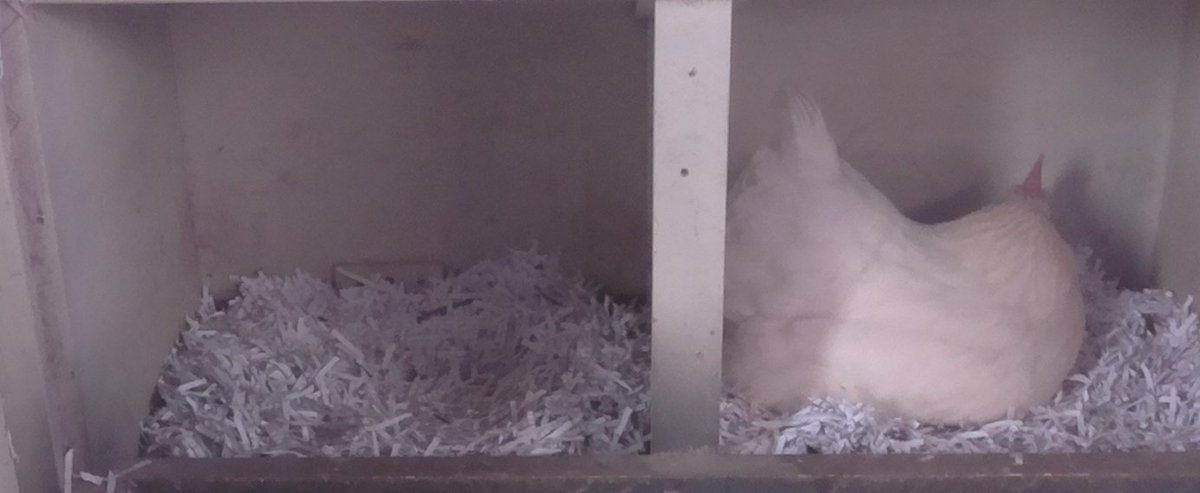hen: (730, 77, 1090, 434)
